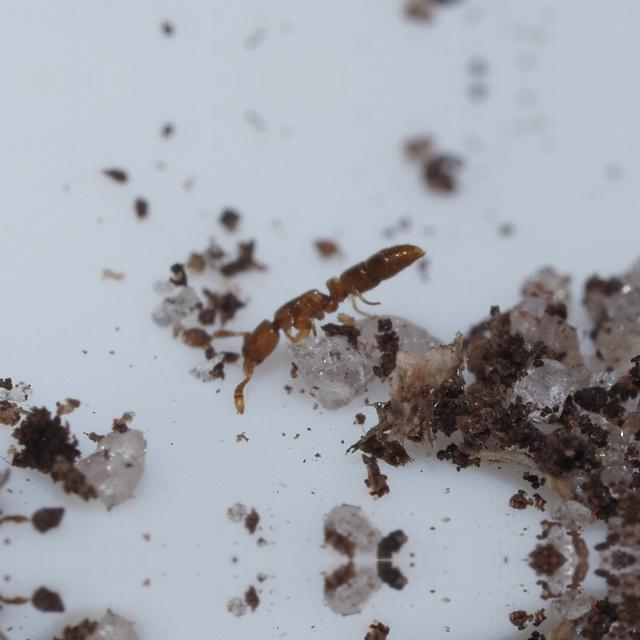Ponera: (210, 224, 438, 400)
